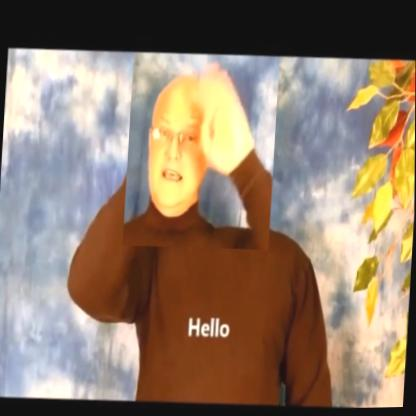Hello: (123, 48, 280, 253)
